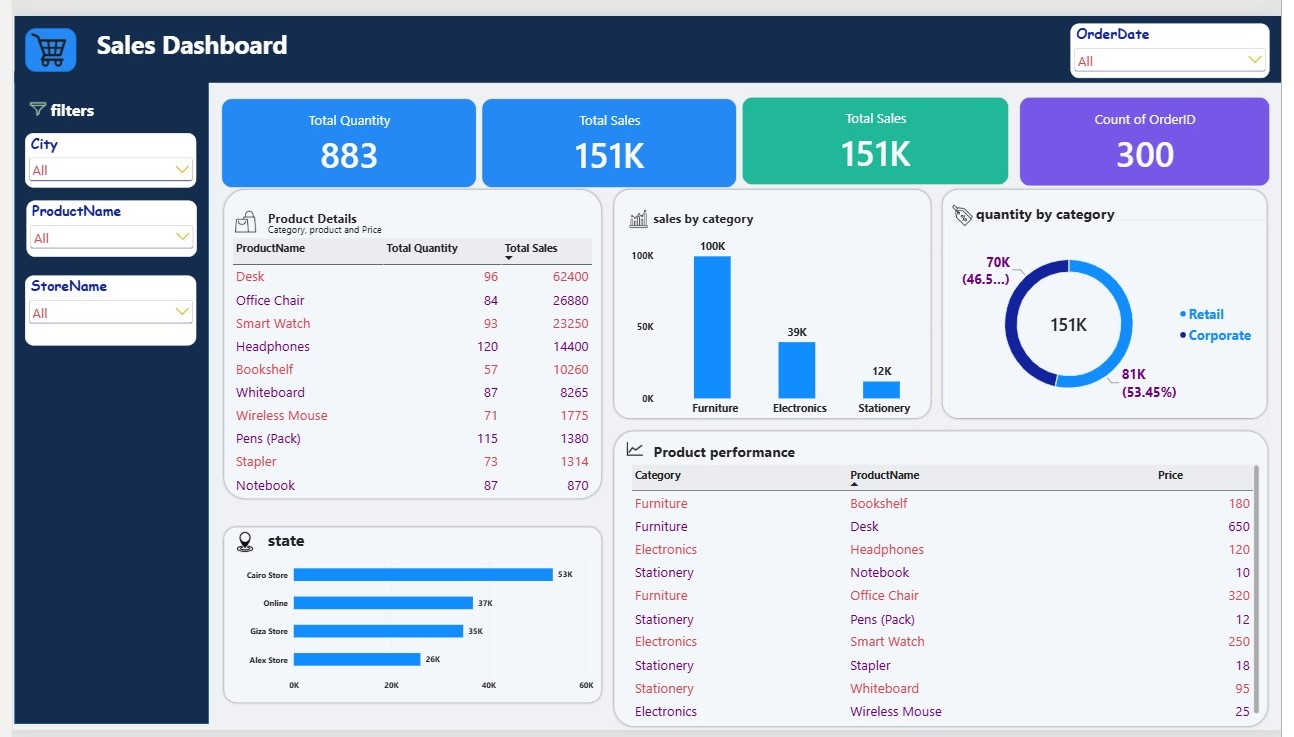

This screenshot's page, from the dashboard's own definition file:
{"tool":"powerbi","page":{"name":"Page 1","canvas":[1920,1080],"ordinal":0},"visuals":[{"type":"shape","box":[2.3,85,294.1,988.1],"z":0},{"type":"shape","box":[314.8,769.8,579.1,273.4],"z":1000},{"type":"shape","box":[905.4,625,997.3,455],"z":2000},{"type":"shape","box":[1404,259.7,498.6,353.9],"z":3000},{"type":"shape","box":[905.4,259.7,487.1,354],"z":4000},{"type":"shape","box":[314.8,259.7,579.1,475.7],"z":5000},{"type":"cardVisual","fields":{"Data":["CountNonNull(Sales.OrderID)"]},"box":[1523.5,121.8,379.1,135.6],"z":6000},{"type":"tableEx","fields":{"Values":["Products.Category","Products.ProductName","Products.Price"]},"box":[919.1,666.4,983.5,413.6],"z":7000},{"type":"cardVisual","fields":{"Data":["Sales.Total Sales"]},"box":[1103,123,404.4,133.3],"z":8000},{"type":"clusteredColumnChart","fields":{"Category":["Products.Category"],"Y":["Sales.Total Sales"]},"box":[919.1,307.9,498.6,317.1],"z":9000},{"type":"barChart","fields":{"Category":["Stores.StoreName"],"Y":["Sales.Total Sales"]},"box":[335.5,797.4,558.4,245.9],"z":10000},{"type":"cardVisual","fields":{"Data":["Sales.Total Quantity","Sales.Total Sales"]},"box":[314.8,124.1,781.3,135.6],"z":11000},{"type":"tableEx","fields":{"Values":["Products.ProductName","Sales.Total Quantity","Sales.Total Sales"]},"box":[314.8,321.7,579.1,420.5],"z":12000},{"type":"donutChart","fields":{"Category":["Customers.Segment"],"Y":["Sales.Total Sales"]},"box":[1417.8,307.9,484.9,317.1],"z":13000},{"type":"slicer","fields":{"Values":["Stores.City"]},"box":[18.4,176.9,259.7,82.7],"z":14000},{"type":"shape","box":[2.3,0,1918.7,101.1],"z":15000},{"type":"shape","box":[18.4,18.4,78.1,66.6],"z":16000},{"type":"image","box":[11.5,18.4,85,66.6],"z":17000},{"type":"textbox","box":[126.4,18.4,301,66.6],"z":18000},{"type":"image","box":[335.5,294.1,32.2,36.8],"z":19000},{"type":"textbox","box":[386,294.1,188.4,36.8],"z":20000},{"type":"textbox","box":[386,312.5,188.4,18.4],"z":21000},{"type":"image","box":[930.6,284.9,32.2,46],"z":22000},{"type":"textbox","box":[970,294.1,413.6,36.8],"z":23000},{"type":"image","box":[1417.8,284.9,41.4,36.8],"z":24000},{"type":"textbox","box":[1459.1,284.9,255.1,46],"z":25000},{"type":"image","box":[921.4,645.7,39.1,20.7],"z":26000},{"type":"textbox","box":[969.7,645.7,691.7,48.3],"z":27000},{"type":"image","box":[314.8,769.8,71.2,52.9],"z":28000},{"type":"textbox","box":[386,777,507.8,52.9],"z":29000},{"type":"image","box":[2.3,127,71.2,27.6],"z":30000},{"type":"textbox","box":[57.4,124.1,188.4,68.9],"z":31000},{"type":"slicer","fields":{"Values":["Sales.OrderDate"]},"box":[1601.6,11.5,301,82.7],"z":31001},{"type":"slicer","fields":{"Values":["Products.ProductName"]},"box":[21.3,279.5,258.2,85.3],"z":31002},{"type":"slicer","fields":{"Values":["Stores.StoreName"]},"box":[18.4,392.9,259.7,105.7],"z":31003}]}

Visuals, with their boxes in screenshot pixels (x1, y1, x2, y2), scaled from the page's 1920x1080 canvas onto the 1294x737 screenshot:
shape: 2:58:200:732
shape: 212:525:602:712
shape: 610:427:1282:736
shape: 946:177:1282:419
shape: 610:177:938:419
shape: 212:177:602:502
cardVisual - CountNonNull(Sales.OrderID): 1027:83:1282:176
tableEx - Products.Category x Products.ProductName: 619:455:1282:736
cardVisual - Sales.Total Sales: 743:84:1016:175
clusteredColumnChart - Products.Category x Sales.Total Sales: 619:210:955:427
barChart - Stores.StoreName x Sales.Total Sales: 226:544:602:712
cardVisual - Sales.Total Quantity x Sales.Total Sales: 212:85:739:177
tableEx - Products.ProductName x Sales.Total Quantity: 212:220:602:506
donutChart - Customers.Segment x Sales.Total Sales: 956:210:1282:427
slicer - Stores.City: 12:121:187:177
shape: 2:0:1293:69
shape: 12:13:65:58
image: 8:13:65:58
textbox: 85:13:288:58
image: 226:201:248:226
textbox: 260:201:387:226
textbox: 260:213:387:226
image: 627:194:649:226
textbox: 654:201:932:226
image: 956:194:983:220
textbox: 983:194:1155:226
image: 621:441:647:455
textbox: 654:441:1120:474
image: 212:525:260:561
textbox: 260:530:602:566
image: 2:87:50:106
textbox: 39:85:166:132
slicer - Sales.OrderDate: 1079:8:1282:64
slicer - Products.ProductName: 14:191:188:249
slicer - Stores.StoreName: 12:268:187:340
